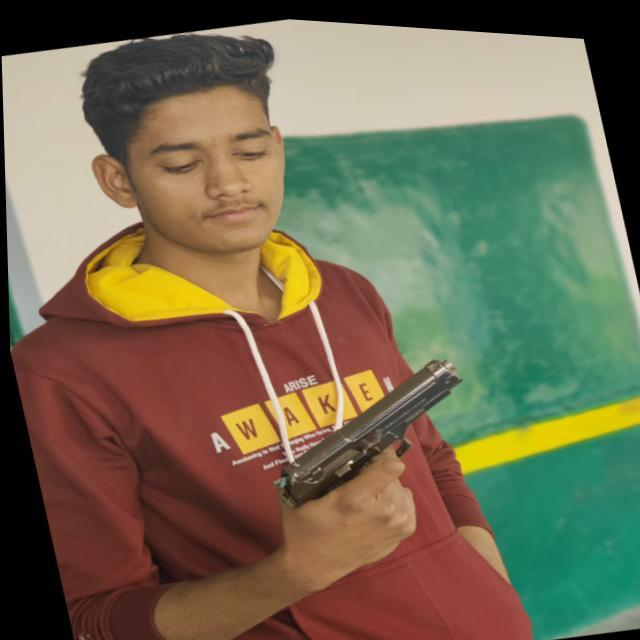weapon: (240, 333, 505, 575)
